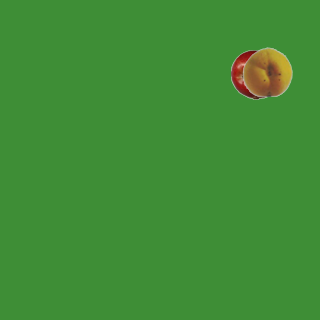Apple Braeburn: (230, 49, 280, 99)
Peach 2: (242, 46, 292, 96)
